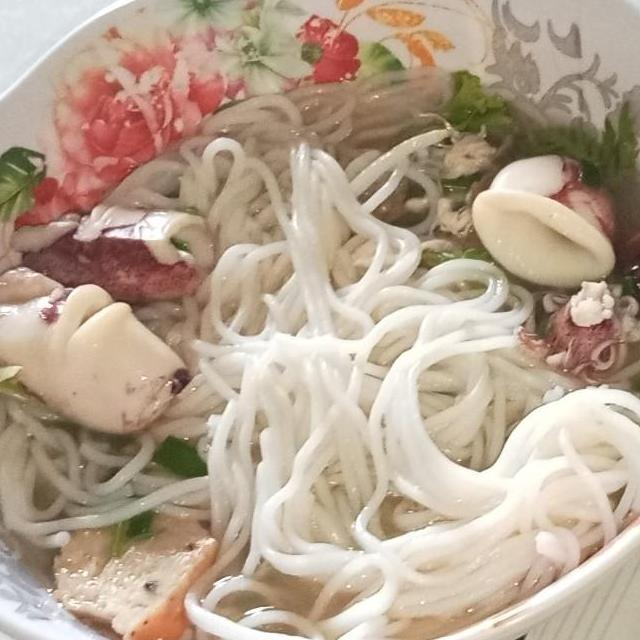bun: (0, 204, 464, 497), (0, 366, 251, 636), (453, 139, 640, 437), (18, 34, 260, 239)
muc: (168, 18, 394, 220), (350, 434, 534, 566), (333, 67, 475, 238), (230, 476, 378, 592)
